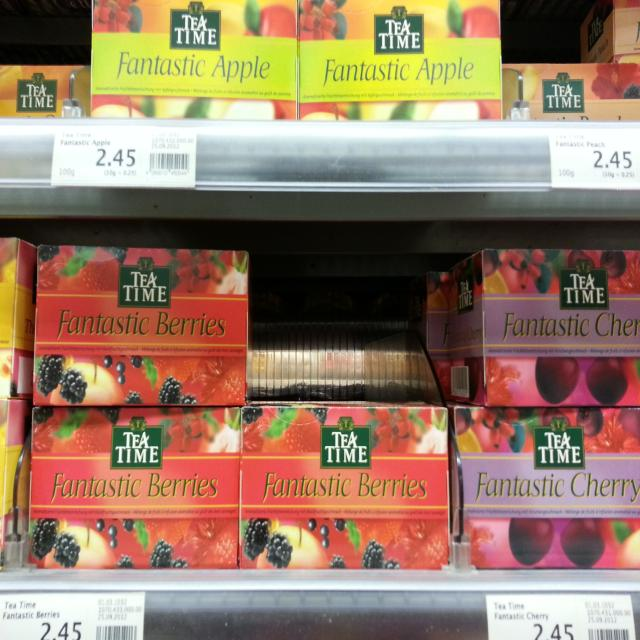Tea: (29, 405, 242, 571), (243, 401, 452, 570), (35, 246, 244, 408), (447, 404, 640, 571), (449, 246, 640, 408), (297, 0, 502, 125), (91, 0, 298, 120), (502, 65, 616, 121), (1, 63, 92, 123)
